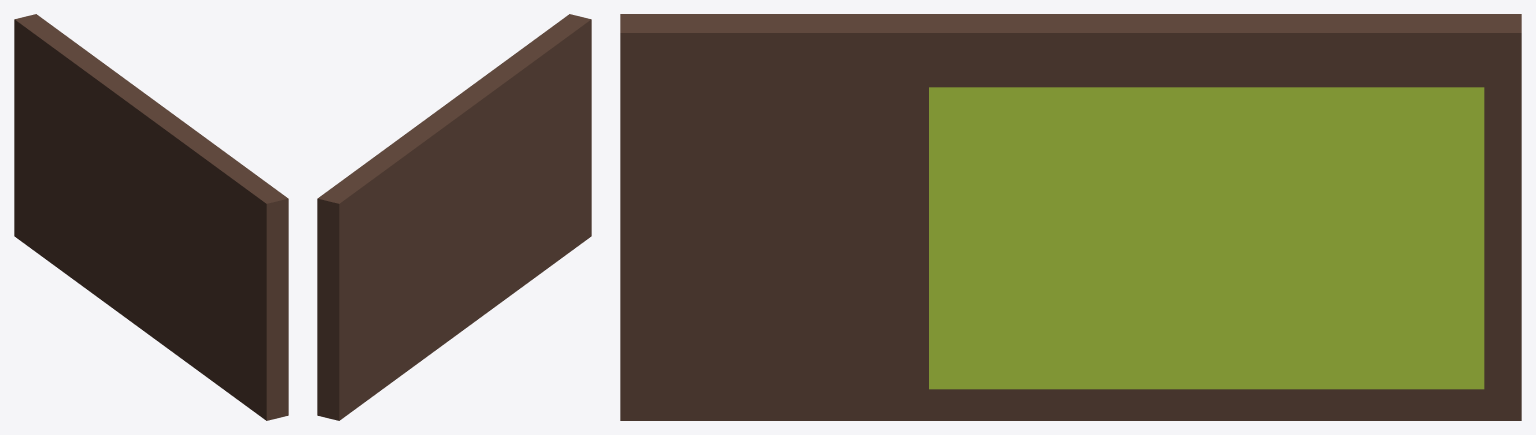
The model's file is Mini Tablero Salon.fbx.
3 views of the same model, side by side, from view 1: azimuth 30°, elevation 25°; view 2: azimuth 150°, elevation 25°; view 3: azimuth 270°, elevation 25° (orthographic). The views are drawn at different scales.
Parts seen in each view (by area): view 1: Mini_Tablero.001; view 2: Mini_Tablero.001; view 3: Mini_Tablero.001.
Boxes of the visible parts, left/top/right/bottom form: Mini_Tablero.001: left=14, top=14, right=288, bottom=420; Mini_Tablero.001: left=317, top=14, right=591, bottom=420; Mini_Tablero.001: left=620, top=14, right=1521, bottom=420.
Bounding box in the file's own units: 5.95 × 56.44 × 119.
